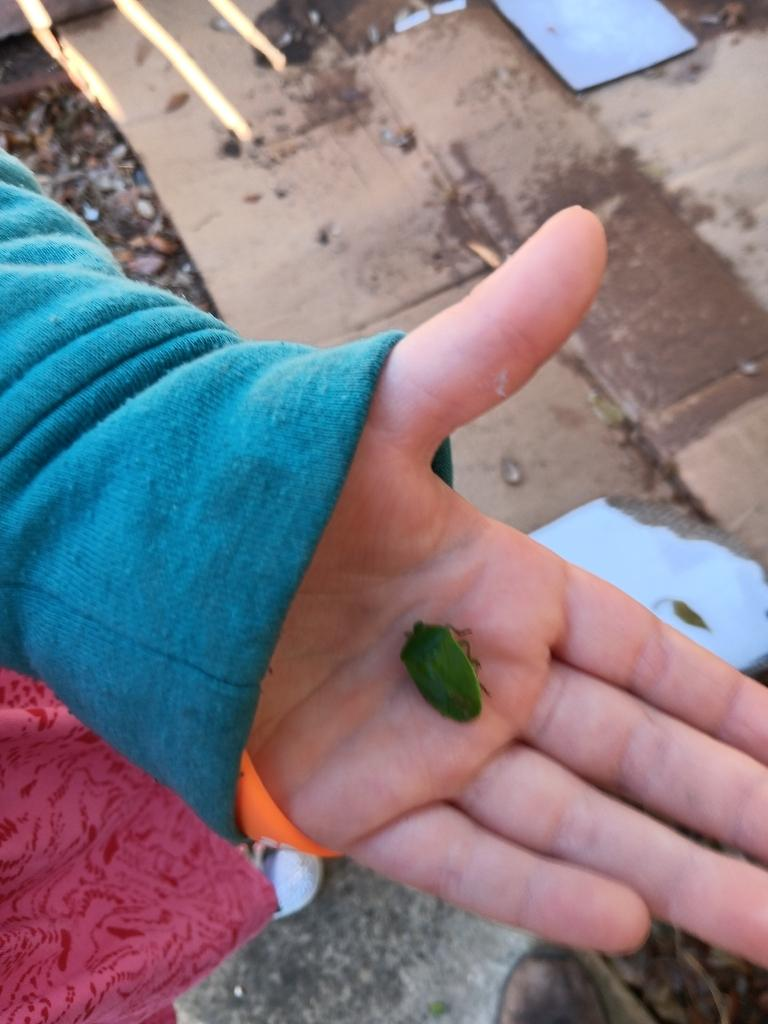stink_bugs: (362, 587, 521, 752)
